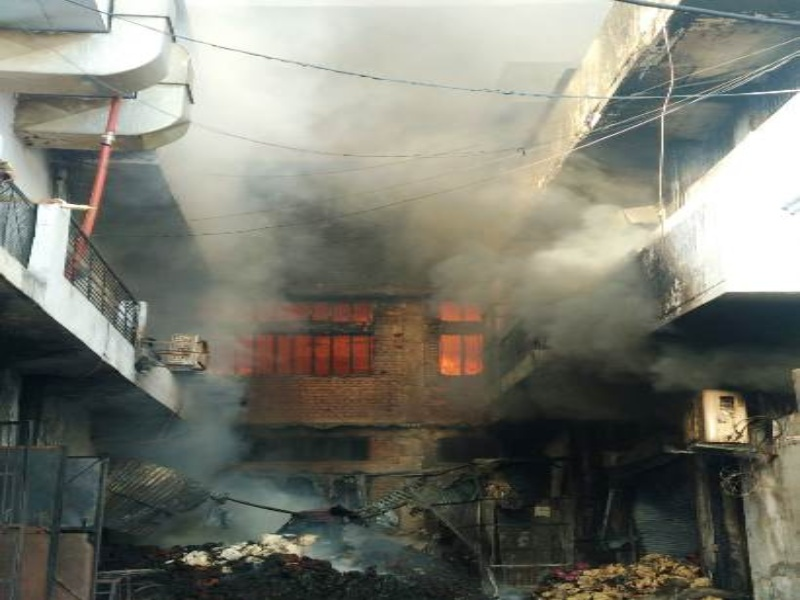smoke: (247, 43, 652, 383)
